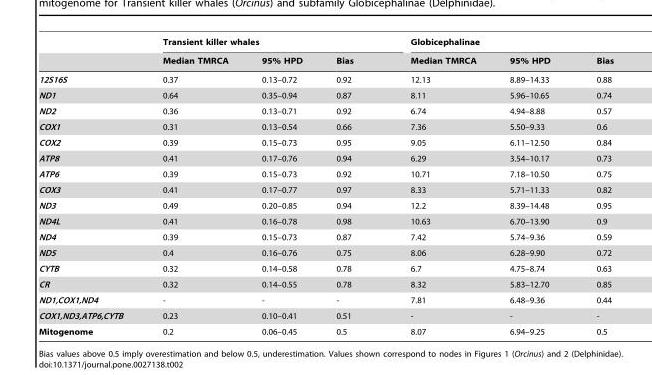table: (37, 37, 613, 335)
table column: (381, 37, 492, 335), (37, 37, 143, 335), (143, 37, 244, 335), (492, 37, 572, 335), (244, 37, 318, 335), (318, 37, 381, 335), (572, 37, 613, 335)
table column header: (37, 37, 613, 70)
table row: (37, 51, 613, 70), (37, 70, 613, 87), (37, 87, 613, 103), (37, 118, 613, 134), (37, 134, 613, 150), (37, 150, 613, 166), (37, 181, 613, 197), (37, 197, 613, 213), (37, 213, 613, 229), (37, 244, 613, 260), (37, 260, 613, 276), (37, 276, 613, 292), (37, 307, 613, 323), (37, 103, 613, 118), (37, 166, 613, 181), (37, 229, 613, 244), (37, 292, 613, 307), (37, 37, 613, 51), (37, 323, 613, 335)
table spanning cell: (143, 37, 381, 51), (381, 37, 613, 51)
